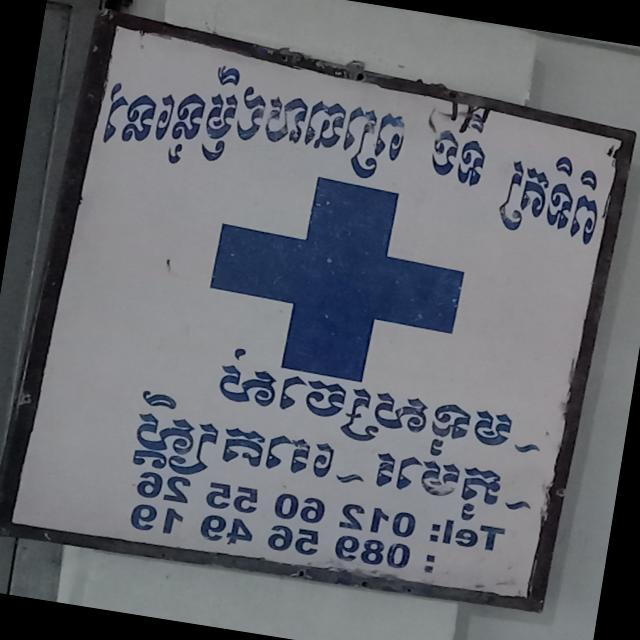2: (79, 60, 608, 270)
264: (129, 466, 425, 540)
429: (116, 497, 420, 571)
Yolov11_80vkh: (108, 383, 509, 523), (201, 333, 524, 469)
